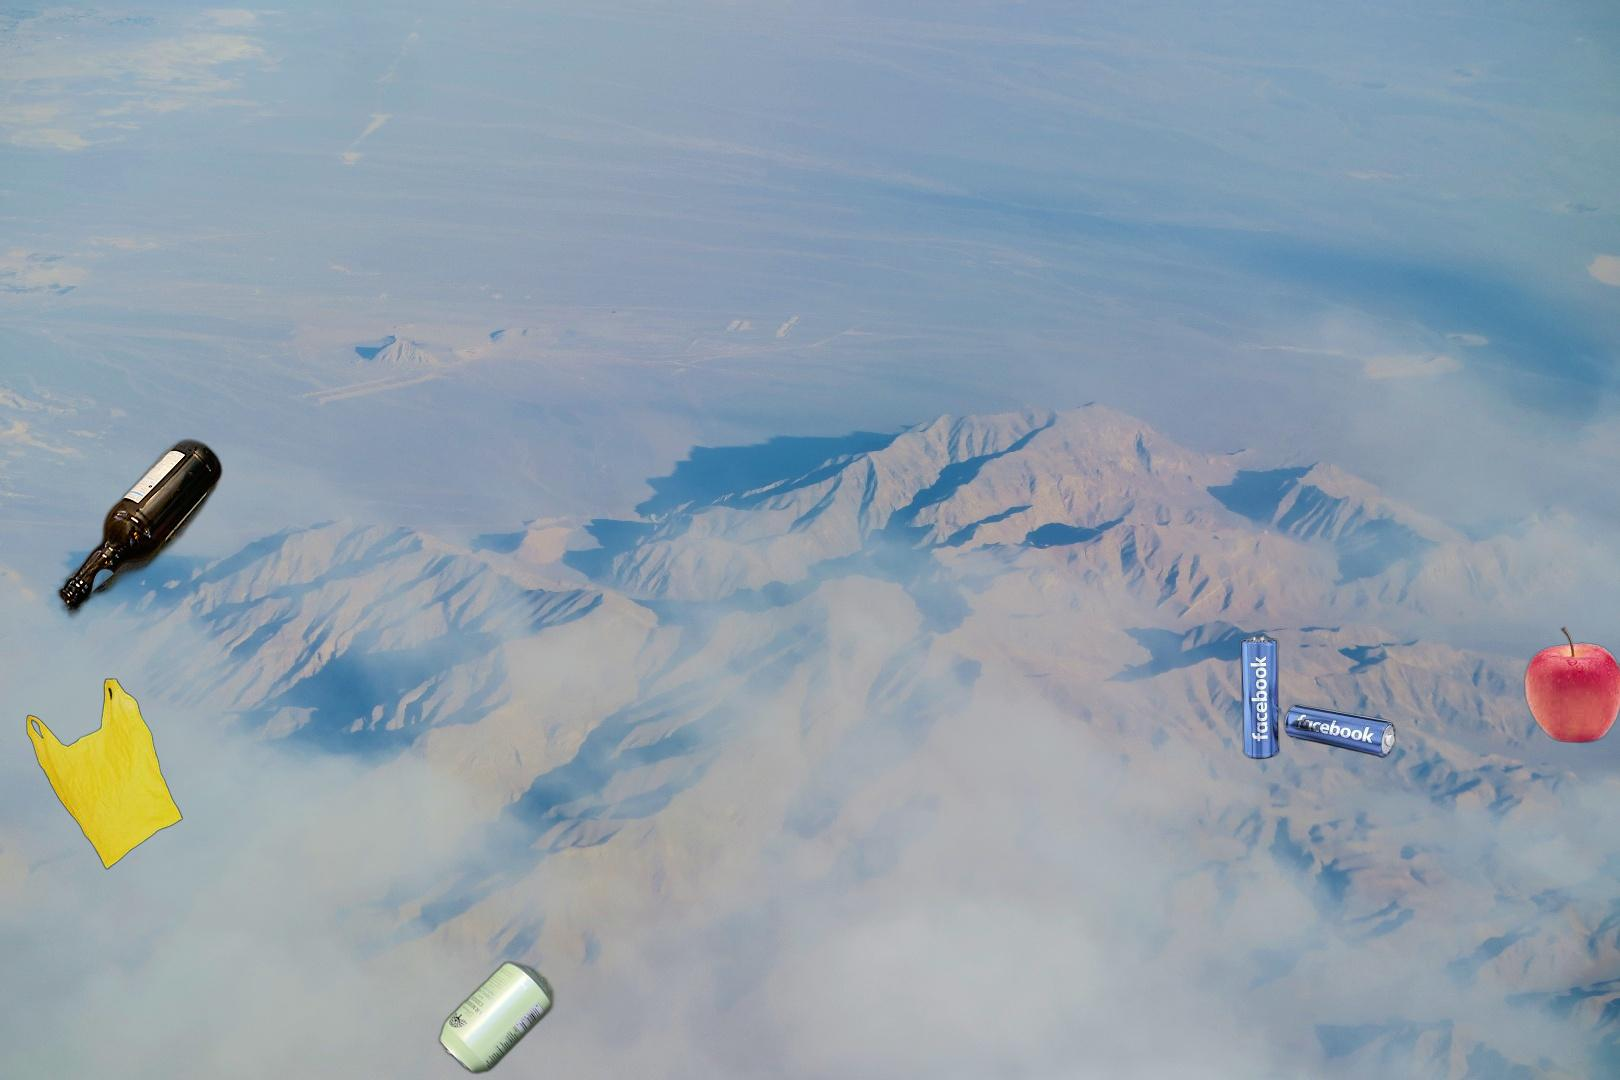battery: (1237, 630, 1397, 762)
biological: (1504, 624, 1620, 781)
glass: (52, 435, 227, 623)
metal-cans: (436, 956, 558, 1080)
plastic-bag: (24, 676, 184, 871)
